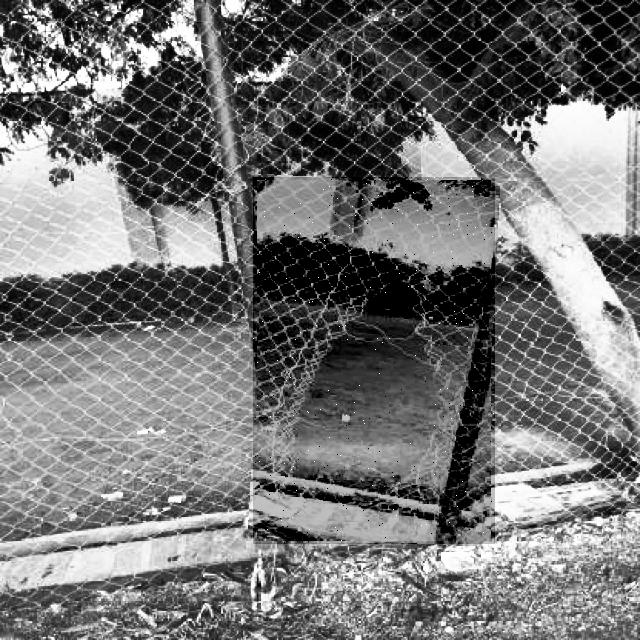anomaly-fence: (253, 177, 495, 544)
